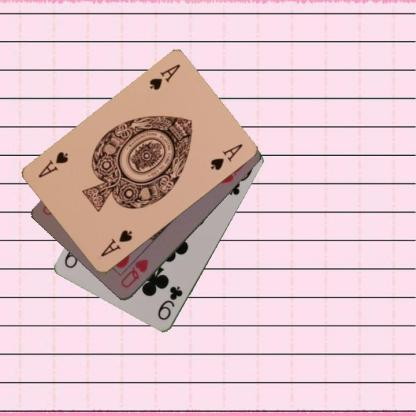9c: (155, 284, 184, 322)
As: (98, 227, 134, 259), (146, 62, 182, 92)
Qh: (118, 256, 150, 290)
